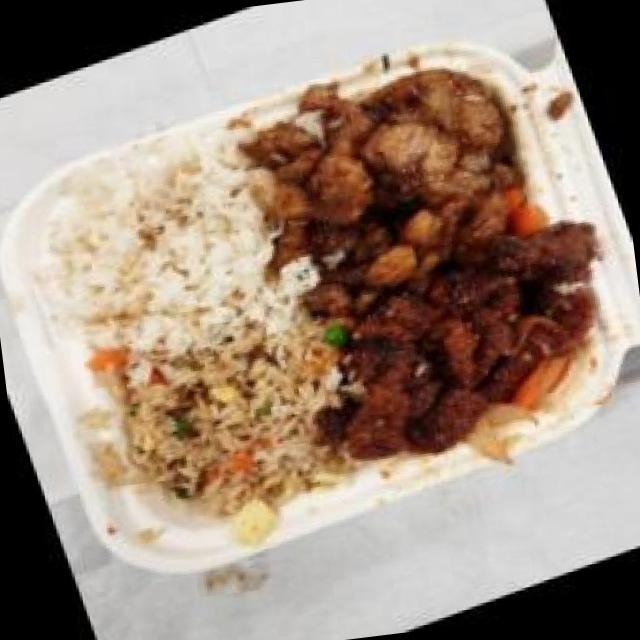Beijing Beef: (285, 194, 640, 497)
Fried Rice: (54, 297, 395, 578)
The Original Orange Chicken: (228, 25, 560, 315)
White Steamed Rice: (7, 118, 310, 392)
